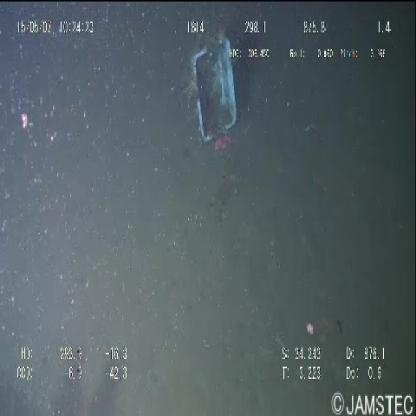Rác: (183, 28, 242, 157)
